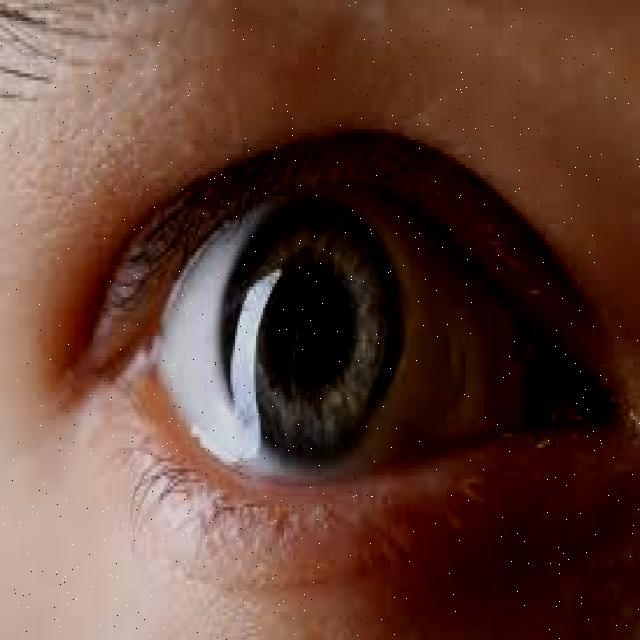Normal: (29, 109, 640, 598)
